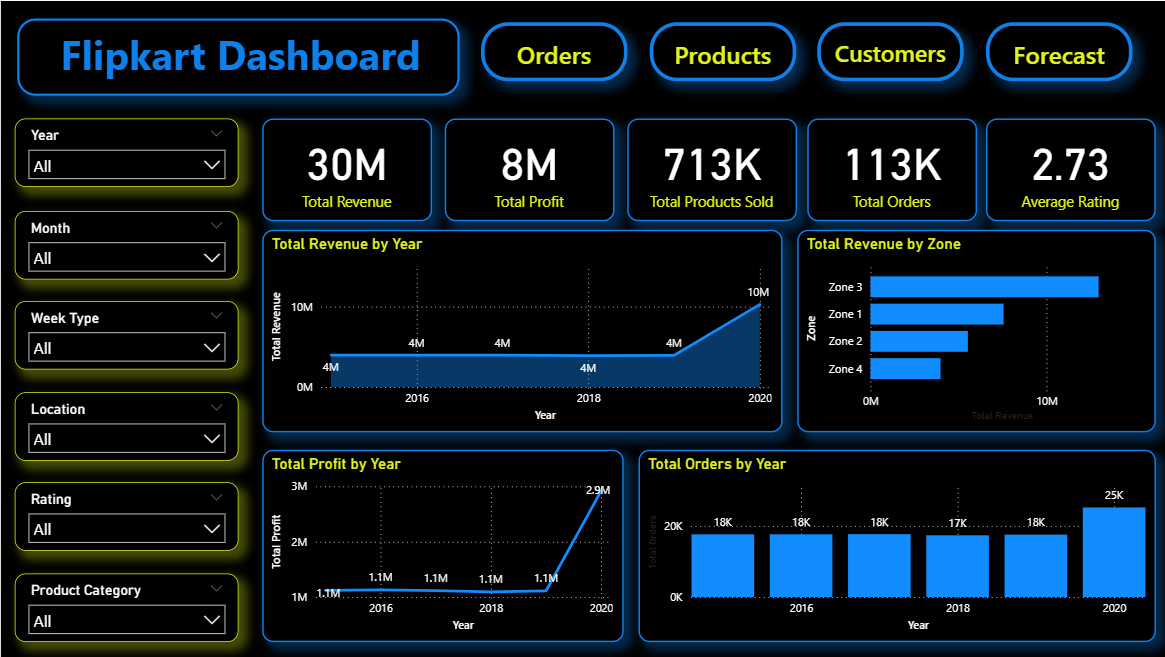

The page's visual inventory and layout, read from the dashboard file:
{"tool":"powerbi","page":{"name":"Page 1","canvas":[1280,720],"ordinal":0},"visuals":[{"type":"slicer","fields":{"Values":["DateTable.Year"]},"box":[15.1,129,245.6,75.5],"z":0},{"type":"slicer","fields":{"Values":["DateTable.Month"]},"box":[15.1,230,245.6,75.5],"z":1000},{"type":"slicer","fields":{"Values":["Flipkart Sales Dataset.Location"]},"box":[15.1,429.2,245.6,75.5],"z":2000},{"type":"slicer","fields":{"Values":["Flipkart Sales Dataset.Rating"]},"box":[15.1,528.9,245.6,75.5],"z":3000},{"type":"slicer","fields":{"Values":["Flipkart Sales Dataset.Product Category"]},"box":[15.1,628.5,245.6,75.5],"z":4000},{"type":"textbox","title":"Flipkart Dashboard","box":[17.8,19.2,485.8,85.1],"z":5000},{"type":"slicer","fields":{"Values":["DateTable.Week Type"]},"box":[15.1,329.6,245.6,75.5],"z":6000},{"type":"card","fields":{"Values":["Flipkart Sales Dataset.Total Revenue"]},"box":[286.8,129,186.6,112.5],"z":7000},{"type":"card","fields":{"Values":["Flipkart Sales Dataset.Total Products Sold"]},"box":[687.5,129,186.6,112.5],"z":8000},{"type":"card","fields":{"Values":["Flipkart Sales Dataset.Total Profit"]},"box":[487.1,129,186.6,112.5],"z":9000},{"type":"card","fields":{"Values":["Flipkart Sales Dataset.Total Orders"]},"box":[885.1,129,186.6,112.5],"z":10000},{"type":"card","fields":{"Values":["Flipkart Sales Dataset.Average Rating"]},"box":[1081.3,129,186.6,112.5],"z":11000},{"type":"clusteredBarChart","fields":{"Category":["Flipkart Sales Dataset.Zone"],"Y":["Flipkart Sales Dataset.Total Revenue"]},"box":[874.1,251.1,393.8,222.3],"z":12000},{"type":"clusteredColumnChart","fields":{"Y":["Flipkart Sales Dataset.Total Orders"],"Category":["DateTable.Year"]},"box":[699.8,492.6,568.1,211.3],"z":13000},{"type":"lineChart","fields":{"Category":["DateTable.Year"],"Y":["Flipkart Sales Dataset.Total Profit"]},"box":[286.8,492.6,396.6,211.3],"z":14000},{"type":"areaChart","fields":{"Y":["Flipkart Sales Dataset.Total Revenue"],"Category":["DateTable.Year"]},"box":[286.8,251.1,570.8,222.3],"z":15000},{"type":"actionButton","box":[526.9,23.3,160.5,64.5],"z":16000},{"type":"actionButton","box":[711.7,23.3,160.5,64.5],"z":17000},{"type":"actionButton","box":[896.5,23.3,160.5,64.5],"z":18000},{"type":"actionButton","box":[1081.3,23.3,160.5,64.5],"z":19000}]}

Visuals, with their boxes in screenshot pixels (x1, y1, x2, y2), scaled from the page's 1280x720 canvas onto the 1165x657 screenshot:
slicer - DateTable.Year: {"left": 14, "top": 118, "right": 237, "bottom": 187}
slicer - DateTable.Month: {"left": 14, "top": 210, "right": 237, "bottom": 279}
slicer - Flipkart Sales Dataset.Location: {"left": 14, "top": 392, "right": 237, "bottom": 461}
slicer - Flipkart Sales Dataset.Rating: {"left": 14, "top": 483, "right": 237, "bottom": 552}
slicer - Flipkart Sales Dataset.Product Category: {"left": 14, "top": 574, "right": 237, "bottom": 642}
"Flipkart Dashboard" textbox: {"left": 16, "top": 18, "right": 458, "bottom": 95}
slicer - DateTable.Week Type: {"left": 14, "top": 301, "right": 237, "bottom": 370}
card - Flipkart Sales Dataset.Total Revenue: {"left": 261, "top": 118, "right": 431, "bottom": 220}
card - Flipkart Sales Dataset.Total Products Sold: {"left": 626, "top": 118, "right": 796, "bottom": 220}
card - Flipkart Sales Dataset.Total Profit: {"left": 443, "top": 118, "right": 613, "bottom": 220}
card - Flipkart Sales Dataset.Total Orders: {"left": 806, "top": 118, "right": 975, "bottom": 220}
card - Flipkart Sales Dataset.Average Rating: {"left": 984, "top": 118, "right": 1154, "bottom": 220}
clusteredBarChart - Flipkart Sales Dataset.Zone x Flipkart Sales Dataset.Total Revenue: {"left": 796, "top": 229, "right": 1154, "bottom": 432}
clusteredColumnChart - Flipkart Sales Dataset.Total Orders x DateTable.Year: {"left": 637, "top": 449, "right": 1154, "bottom": 642}
lineChart - DateTable.Year x Flipkart Sales Dataset.Total Profit: {"left": 261, "top": 449, "right": 622, "bottom": 642}
areaChart - Flipkart Sales Dataset.Total Revenue x DateTable.Year: {"left": 261, "top": 229, "right": 781, "bottom": 432}
actionButton: {"left": 480, "top": 21, "right": 626, "bottom": 80}
actionButton: {"left": 648, "top": 21, "right": 794, "bottom": 80}
actionButton: {"left": 816, "top": 21, "right": 962, "bottom": 80}
actionButton: {"left": 984, "top": 21, "right": 1130, "bottom": 80}
